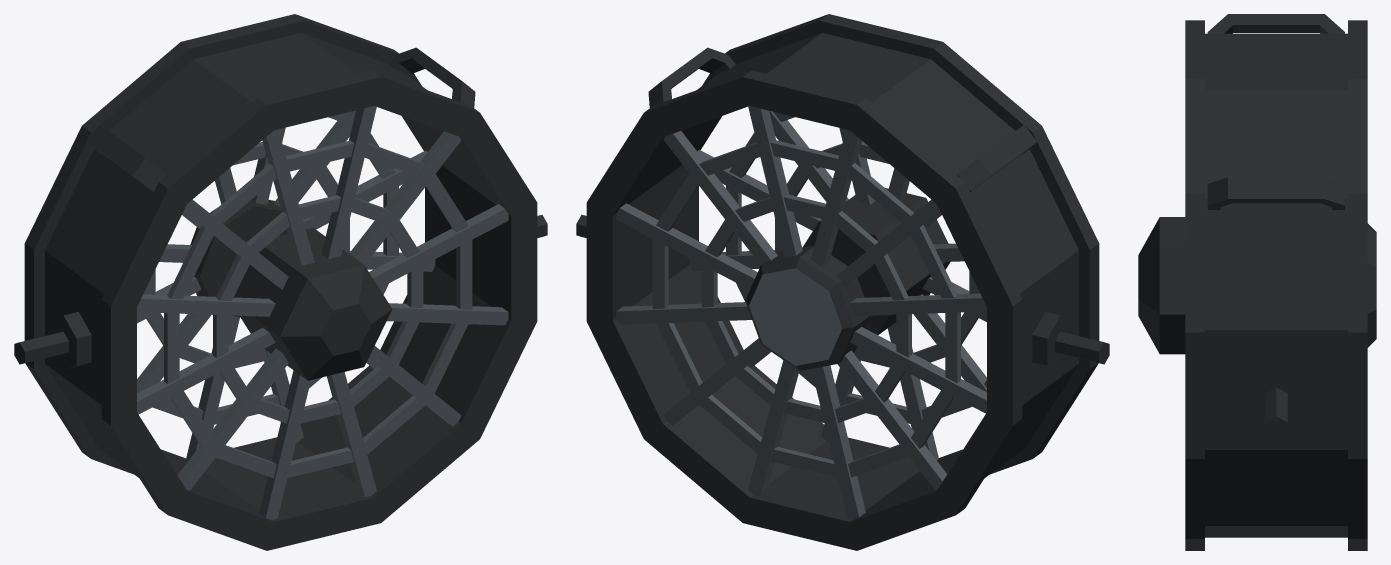
Rendered from SM_Prop_Fan_02_Casing.fbx.
The picture shows the model from 3 angles, left to right: view 1: azimuth 30°, elevation 25°; view 2: azimuth 150°, elevation 25°; view 3: azimuth 270°, elevation 25°; orthographic projection. The views are drawn at different scales.
Parts seen in each view (by area): view 1: SM_Prop_Fan_02_Casing; view 2: SM_Prop_Fan_02_Casing; view 3: SM_Prop_Fan_02_Casing.
Boxes of the visible parts, x1=… form: SM_Prop_Fan_02_Casing: x1=14, y1=14, x2=547, y2=550; SM_Prop_Fan_02_Casing: x1=576, y1=14, x2=1109, y2=550; SM_Prop_Fan_02_Casing: x1=1138, y1=14, x2=1376, y2=550.
Size of the model in its own units: 94.96 by 77.4 by 35.39.
